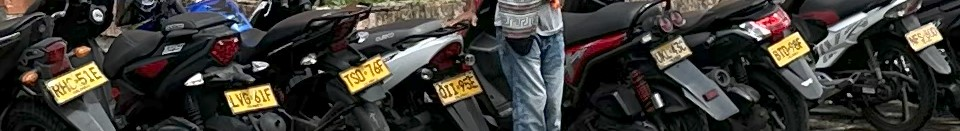number plate: (45, 62, 107, 104), (339, 55, 390, 93), (434, 71, 481, 105), (224, 84, 277, 114), (767, 32, 809, 66), (650, 36, 691, 69), (905, 23, 942, 51)
